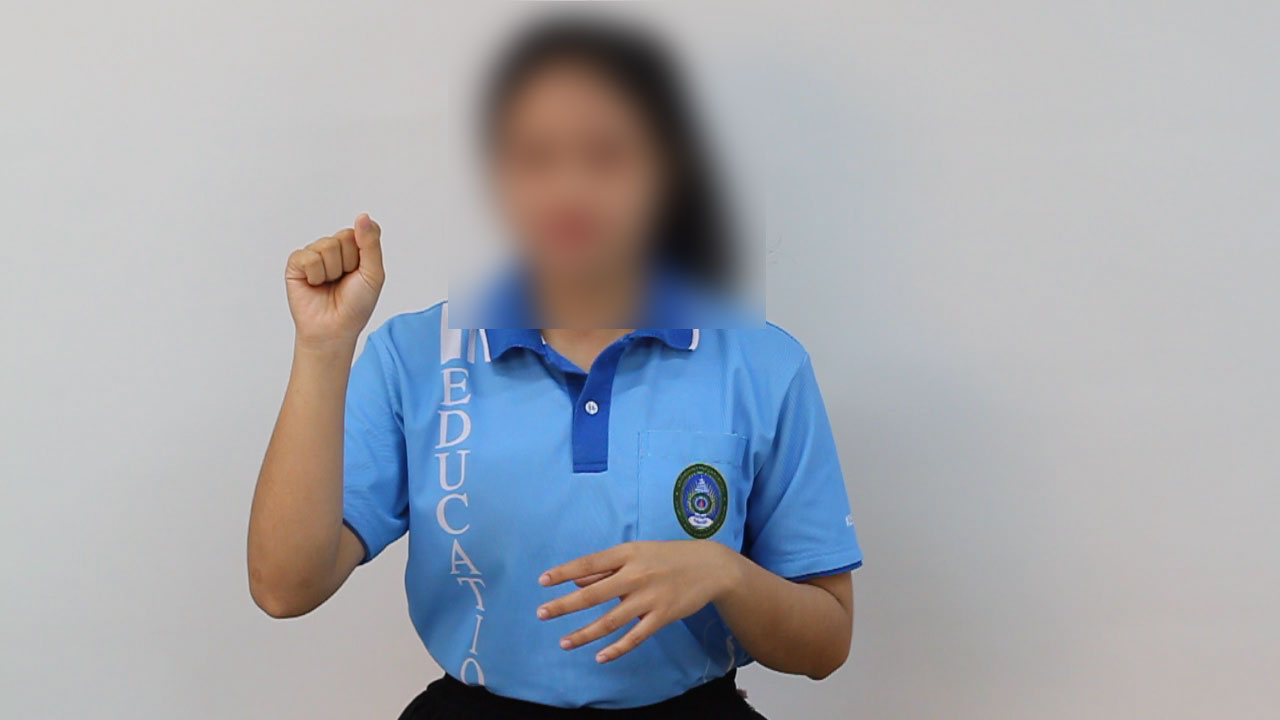sor: (273, 204, 395, 347)
